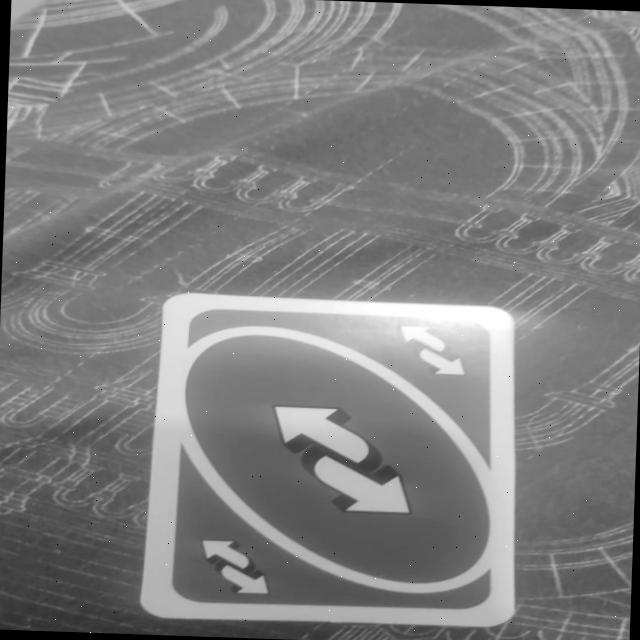reverse_card: (139, 290, 526, 630)
